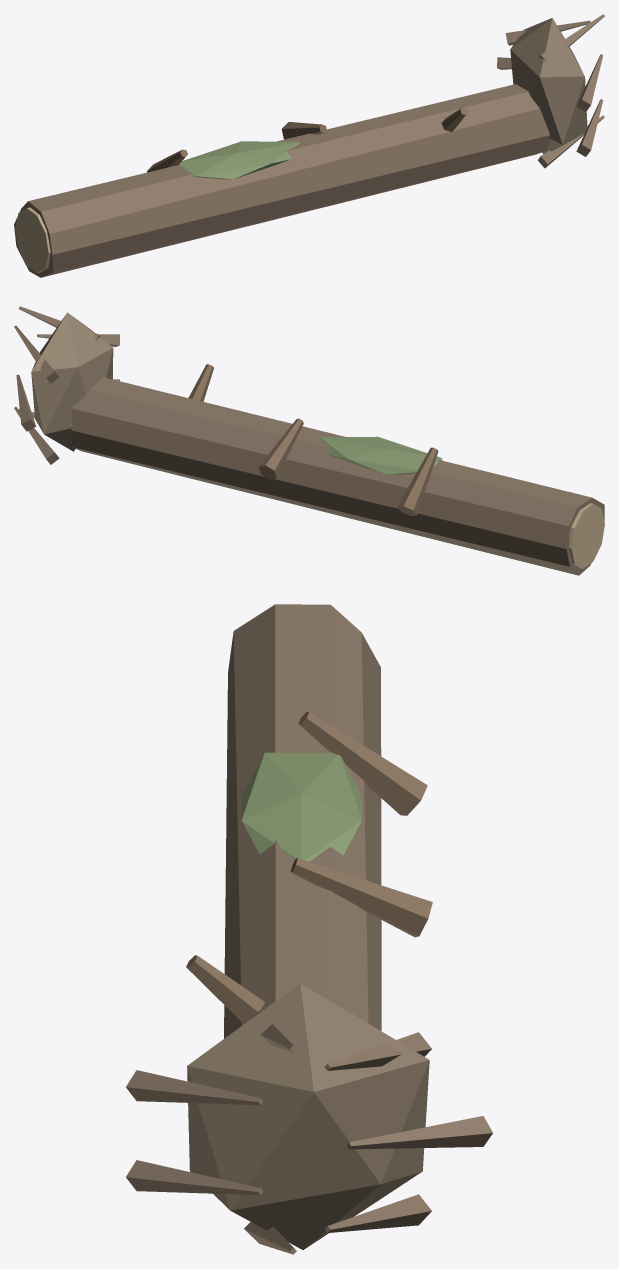
Rendered from Log3.glb.
3 views of the same model, one above another, from view 1: azimuth 30°, elevation 25°; view 2: azimuth 150°, elevation 25°; view 3: azimuth 270°, elevation 25° (orthographic). The views are drawn at different scales.
Parts seen in each view (by area): view 1: Log3; view 2: Log3; view 3: Log3.
Part boxes in pixels (left/top/right/bottom): Log3: left=14, top=14, right=604, bottom=277; Log3: left=14, top=306, right=604, bottom=575; Log3: left=126, top=604, right=492, bottom=1254.
Bounding box in the file's own units: 18.42 × 4.29 × 5.14.
